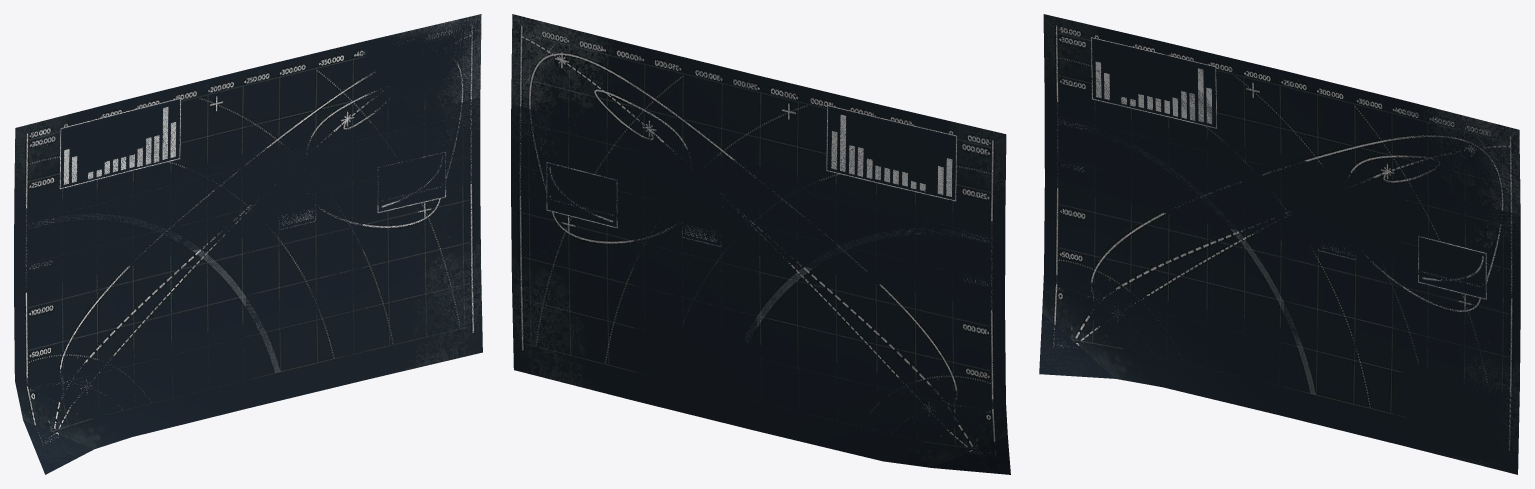
File: asteroid_trajectory_map_01.dae
The picture shows the model from 3 angles, left to right: view 1: azimuth 30°, elevation 25°; view 2: azimuth 150°, elevation 25°; view 3: azimuth 330°, elevation 25°; orthographic projection. The views are drawn at different scales.
Visible parts, largest first — view 1: 01; view 2: 01; view 3: 01.
Boxes of the visible parts, box(x1,y1,x2,y2) form: 01: box(14, 14, 482, 474); 01: box(511, 14, 1010, 474); 01: box(1039, 14, 1520, 474).
Bounding box in the file's own units: 2.17 × 1.5 × 0.1631.
